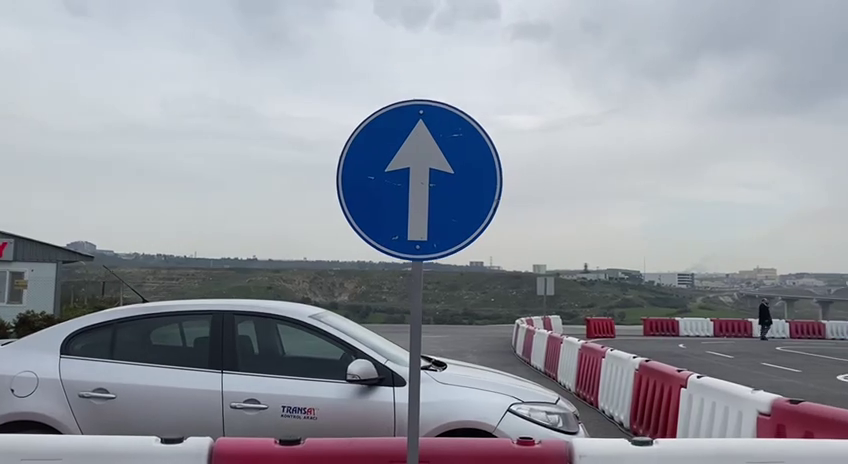forward: (331, 94, 505, 264)
